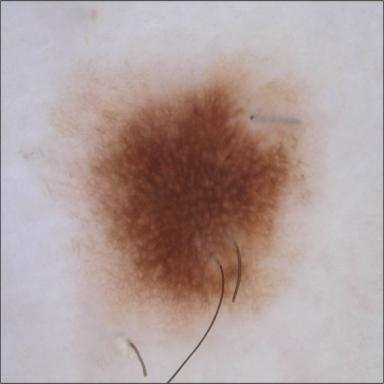nevus: (89, 80, 291, 304)
